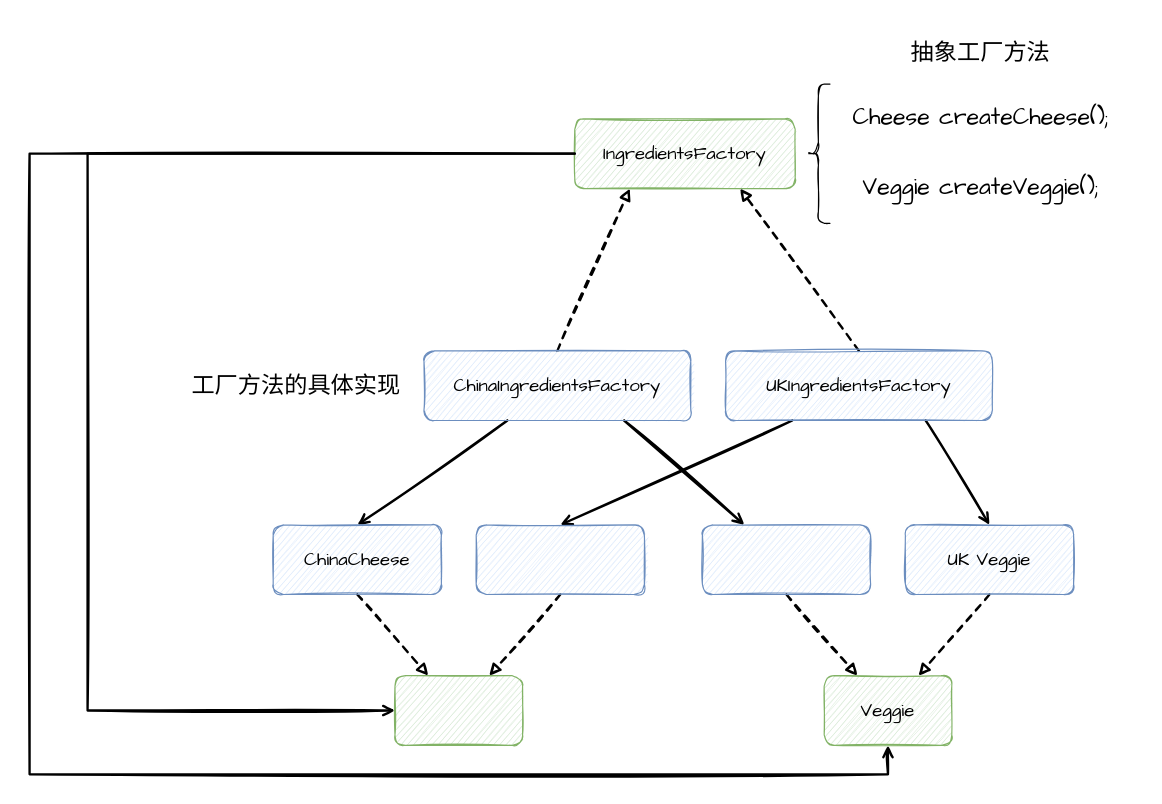
The diagram is 1162 pixels wide and 804 high, and some of its shapes have lost their labels. The shapes that lost their labels are listed below. From the top down, each one's centre as x and y in pixels, then its label:
At (559,559): "UKCheese".
At (786,559): "China Veggie".
At (458,710): "Cheese".
